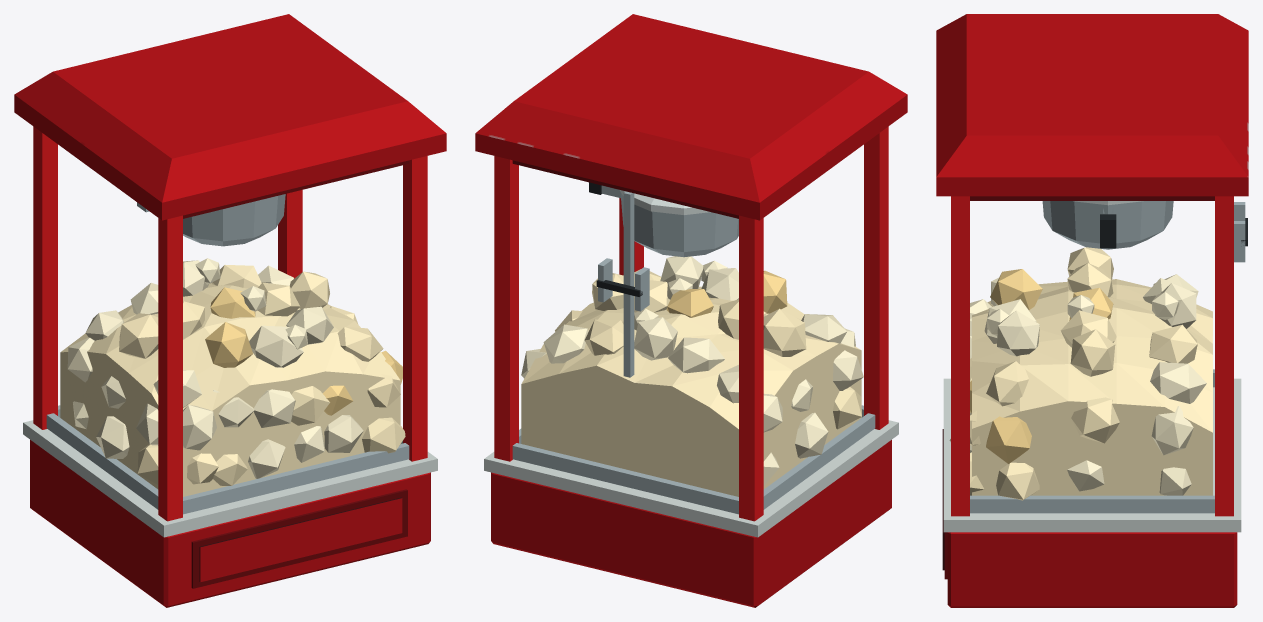
The model's file is PopcornMachine.fbx.
3 views of the same model, side by side, from view 1: azimuth 30°, elevation 25°; view 2: azimuth 150°, elevation 25°; view 3: azimuth 270°, elevation 25° (orthographic). The views are drawn at different scales.
Visible parts, largest first — view 1: PopcornMachine_Body; view 2: PopcornMachine_Body; view 3: PopcornMachine_Body.
Part boxes in pixels (x1,y1,x2,y2): PopcornMachine_Body: [14, 14, 446, 607]; PopcornMachine_Body: [475, 14, 907, 607]; PopcornMachine_Body: [936, 14, 1248, 607].
Size of what is drawn, in the model's own units: 0.4 by 0.592 by 0.36.
Materials: 1 (1 with a texture image).
